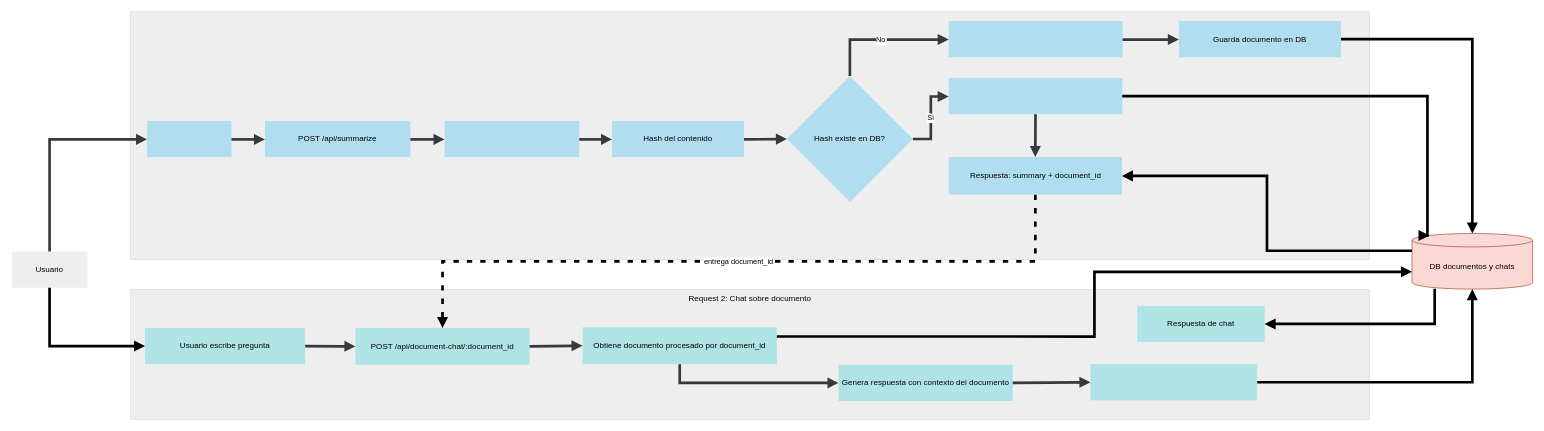
Some shapes in this 1544 by 431 pixel diagram are drawn without their labels. Each missing label, with the box of its shape:
Extracción de texto: (444, 121, 579, 157)
Guarda intercambio en DB: (1090, 364, 1257, 400)
Procesa con IA: (948, 21, 1122, 57)
Request 1: Generación de resumen: (130, 11, 1369, 259)
Reutiliza resumen guardado: (948, 78, 1122, 114)
Sube PDF: (147, 121, 231, 157)
